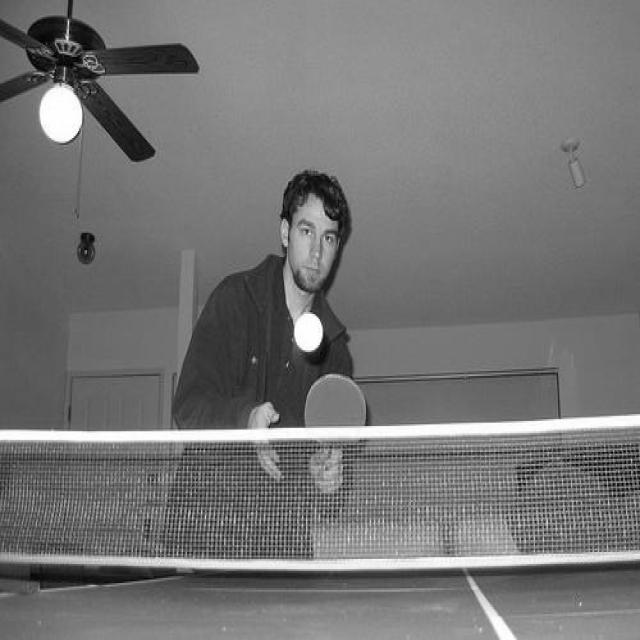ping-pong-ball: (294, 312, 324, 352)
